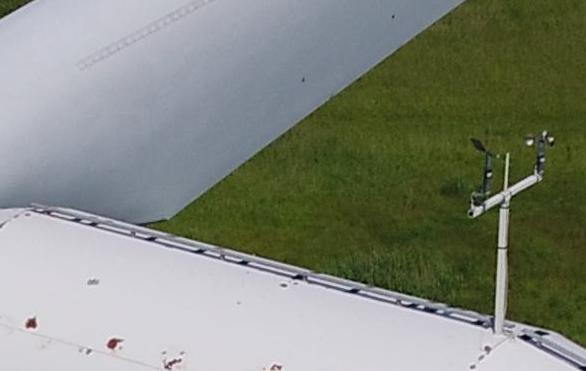damage: (161, 350, 185, 371), (106, 335, 124, 351), (25, 315, 39, 330), (262, 362, 285, 371), (87, 277, 101, 285)
